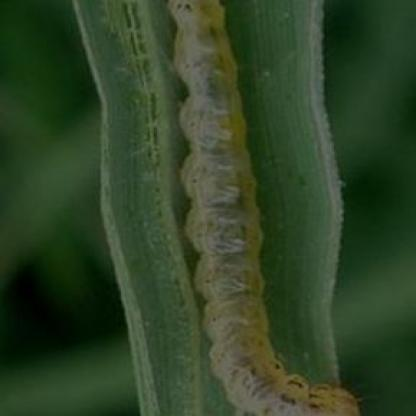leaf-folder: (122, 7, 369, 416)
